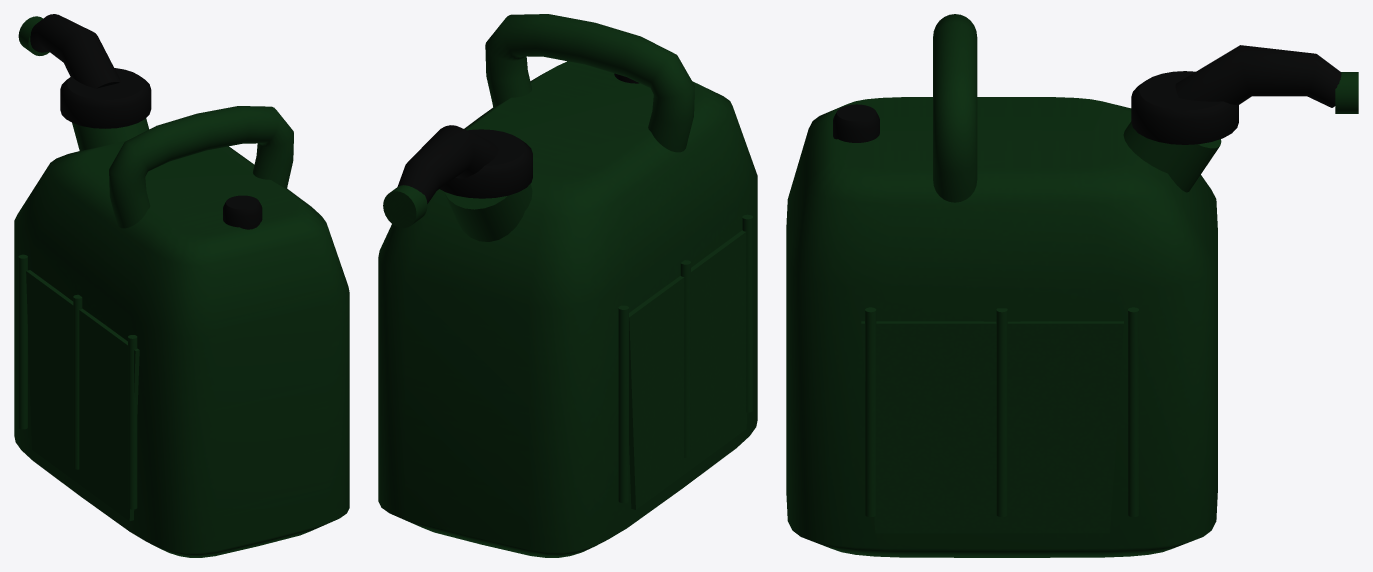
The model's file is MixGasCan.gltf.
3 renders of one model, left to right at view 1: azimuth 30°, elevation 25°; view 2: azimuth 150°, elevation 25°; view 3: azimuth 270°, elevation 25°, orthographic. The views are drawn at different scales.
Parts seen in each view (by area): view 1: MixGasCan__Body; view 2: MixGasCan__Body; view 3: MixGasCan__Body.
Part boxes in pixels (x1=…): MixGasCan__Body: x1=14, y1=14, x2=349, y2=557; MixGasCan__Body: x1=378, y1=14, x2=757, y2=557; MixGasCan__Body: x1=786, y1=14, x2=1358, y2=557.
Size of the model in its own units: 0.1768 by 0.3047 by 0.3378.
Materials: 1 (1 with a texture image).
